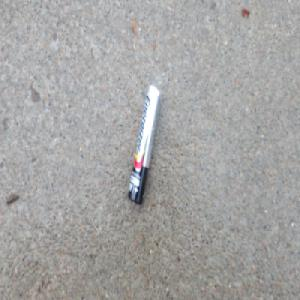Battery: (125, 83, 160, 206)
